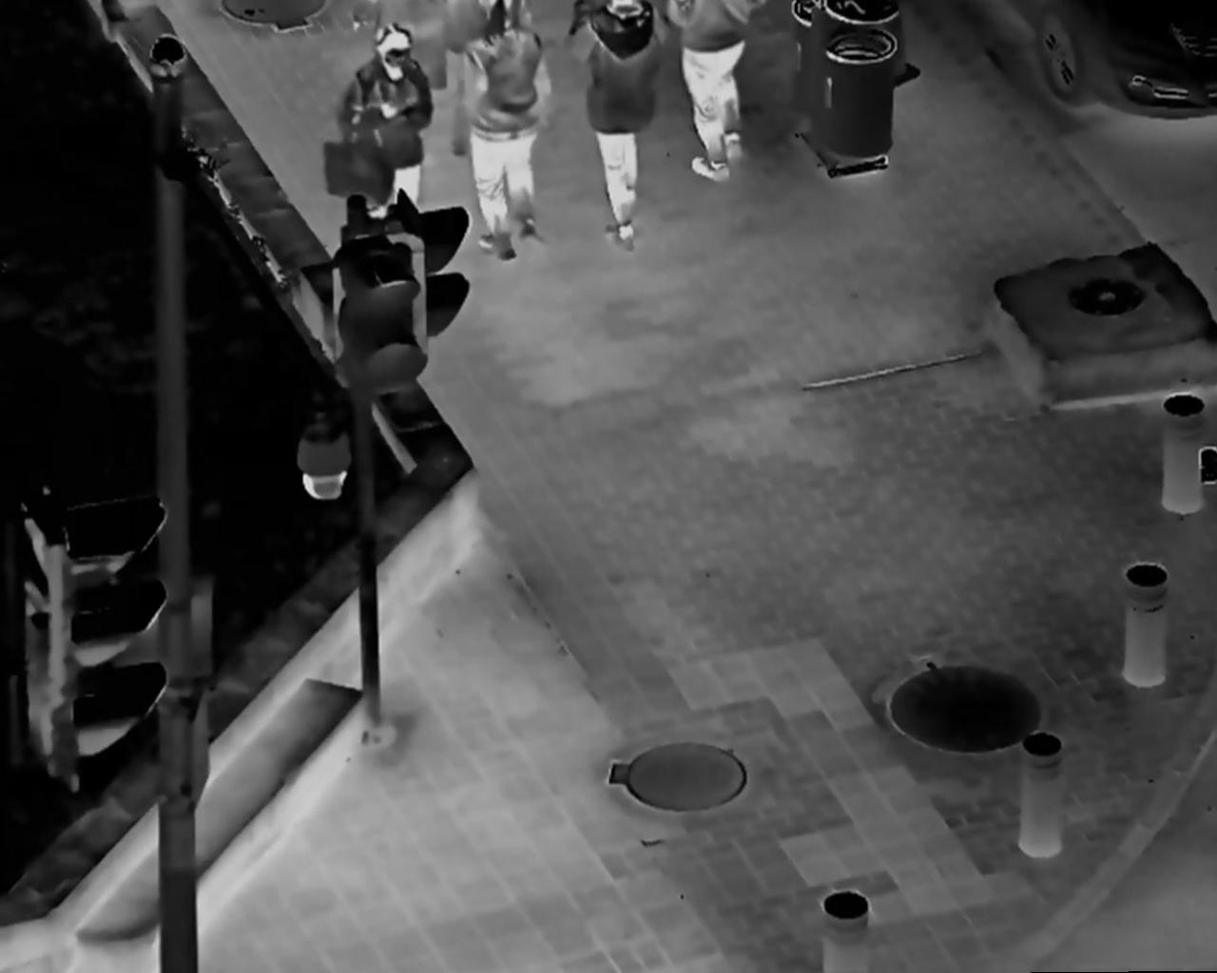person: (335, 21, 434, 271)
